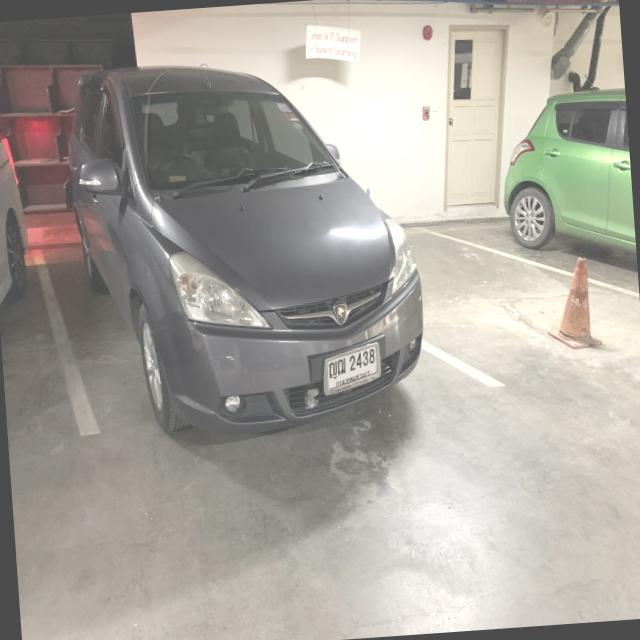license_plate: (320, 339, 385, 399)
